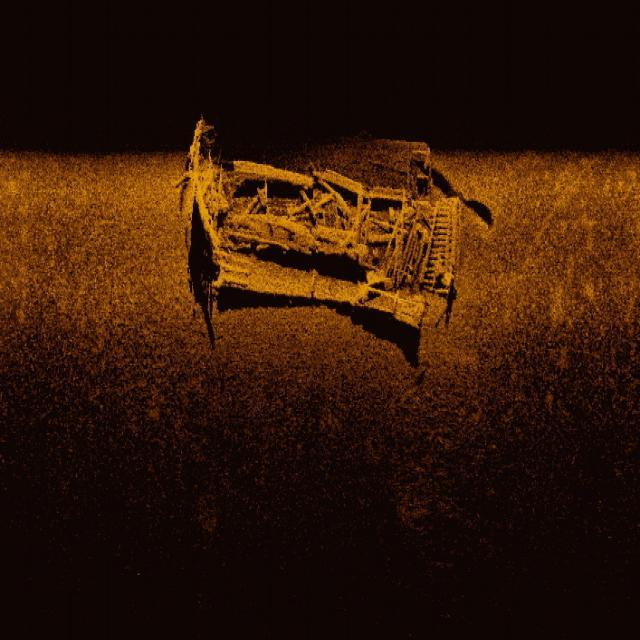shipwreck: (181, 106, 468, 332)
